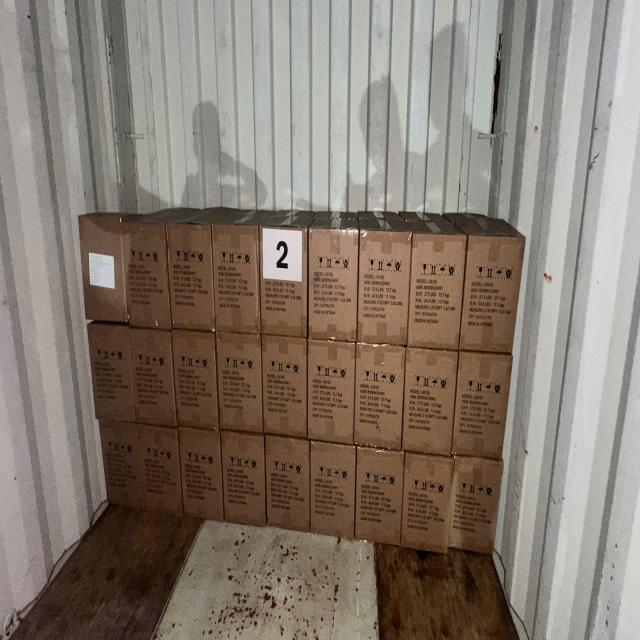Carton: (99, 422, 184, 515), (466, 233, 524, 351), (410, 232, 462, 350), (356, 230, 408, 345), (458, 349, 514, 454), (312, 230, 362, 344), (122, 217, 172, 329), (167, 221, 217, 332), (404, 348, 454, 457), (211, 222, 260, 333), (260, 225, 308, 337), (79, 214, 127, 324), (356, 342, 404, 449), (310, 339, 358, 443), (454, 458, 505, 553), (89, 324, 138, 422), (402, 454, 451, 551), (173, 332, 220, 431), (263, 337, 308, 440), (354, 448, 401, 546), (217, 334, 263, 434), (130, 329, 176, 428), (266, 437, 312, 533), (311, 442, 357, 538), (178, 432, 224, 524), (219, 434, 264, 528), (138, 422, 181, 512)
